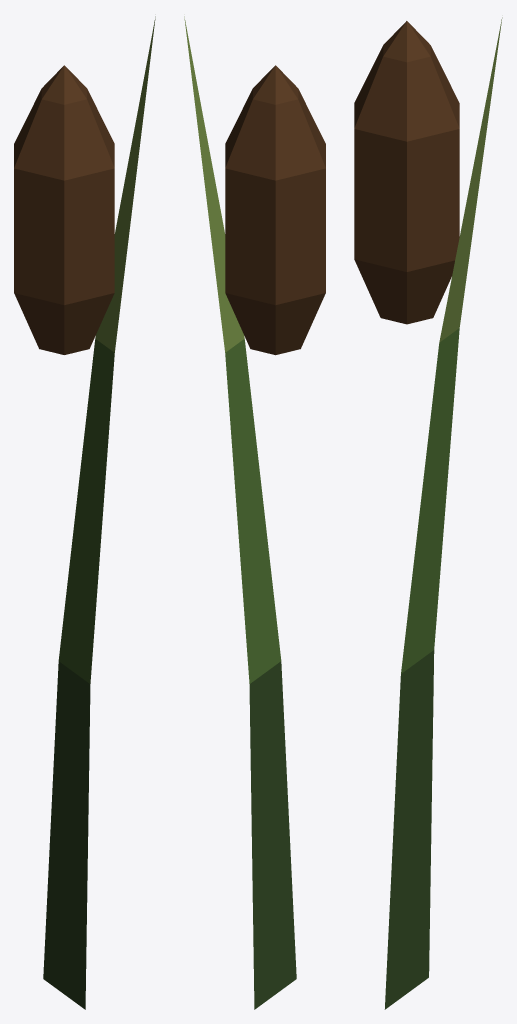
The model's file is cattail.obj.
3 renders of one model, left to right at view 1: azimuth 30°, elevation 25°; view 2: azimuth 150°, elevation 25°; view 3: azimuth 330°, elevation 25°, orthographic. The views are drawn at different scales.
Visible parts, largest first — view 1: cattail; view 2: cattail; view 3: cattail.
Boxes of the visible parts, x1,y1,x2,y2 form: cattail: [14, 16, 155, 1009]; cattail: [184, 16, 325, 1009]; cattail: [354, 17, 502, 1009].
Size of the model in its own units: 0.155 by 1 by 0.0952.
